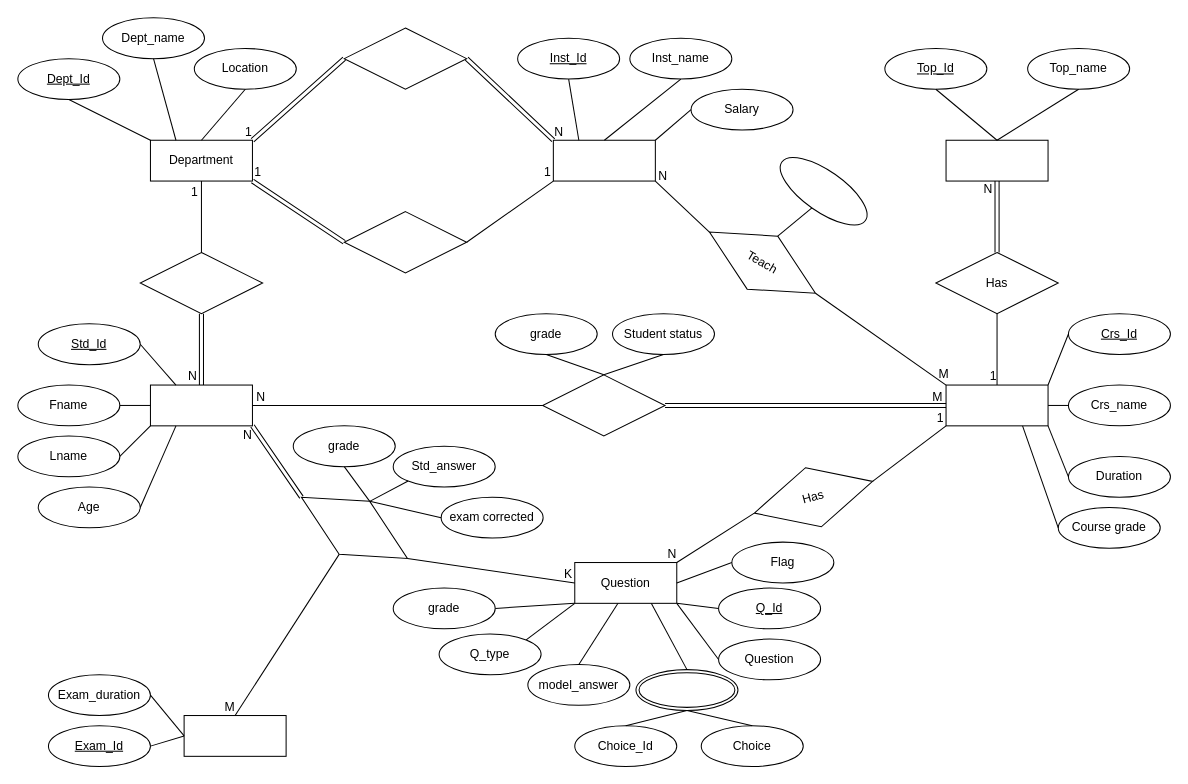
Some shapes in this 1188 by 784 pixel diagram are drawn without their labels. The centre of each missing label's shape, as x and y in pixels:
"Choices" goes at point 686,689.
"Course" goes at point 996,405.
"Evaluation" goes at point 823,190.
"Exam" goes at point 234,735.
"In" goes at point 201,282.
"Instructor" goes at point 603,160.
"Manage" goes at point 405,242.
"Student" goes at point 200,405.
"Study" goes at point 603,405.
"Take" goes at point 354,527.
"Topic" goes at point 996,160.
"Work" goes at point 405,58.
